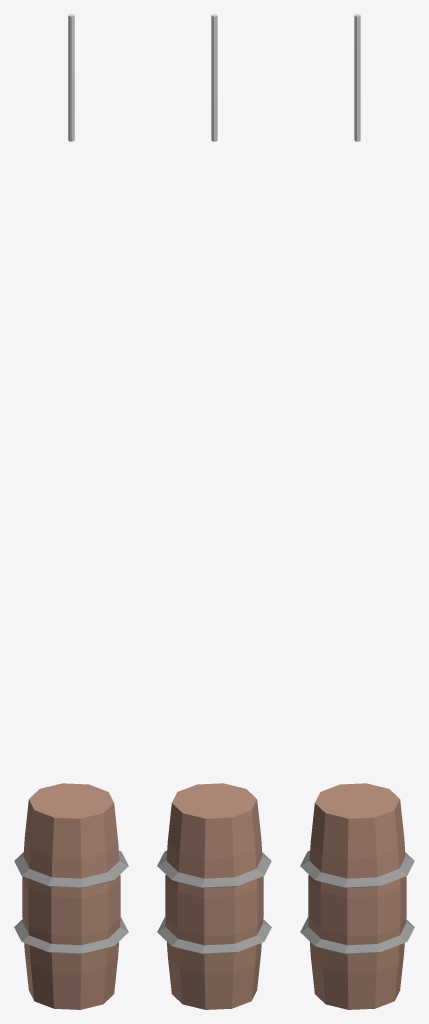
Rendered from ham_hanging.glb.
The picture shows the model from 3 angles, left to right: view 1: azimuth 30°, elevation 25°; view 2: azimuth 150°, elevation 25°; view 3: azimuth 330°, elevation 25°; orthographic projection.
Visible parts, largest first — view 1: barrel.002; view 2: barrel.002; view 3: barrel.002.
Boxes of the visible parts, left/top/right/bottom form: barrel.002: left=14, top=14, right=128, bottom=1009; barrel.002: left=157, top=14, right=271, bottom=1009; barrel.002: left=300, top=14, right=414, bottom=1009.
Bounding box in the file's own units: 0.3008 × 2.81 × 0.2861.
